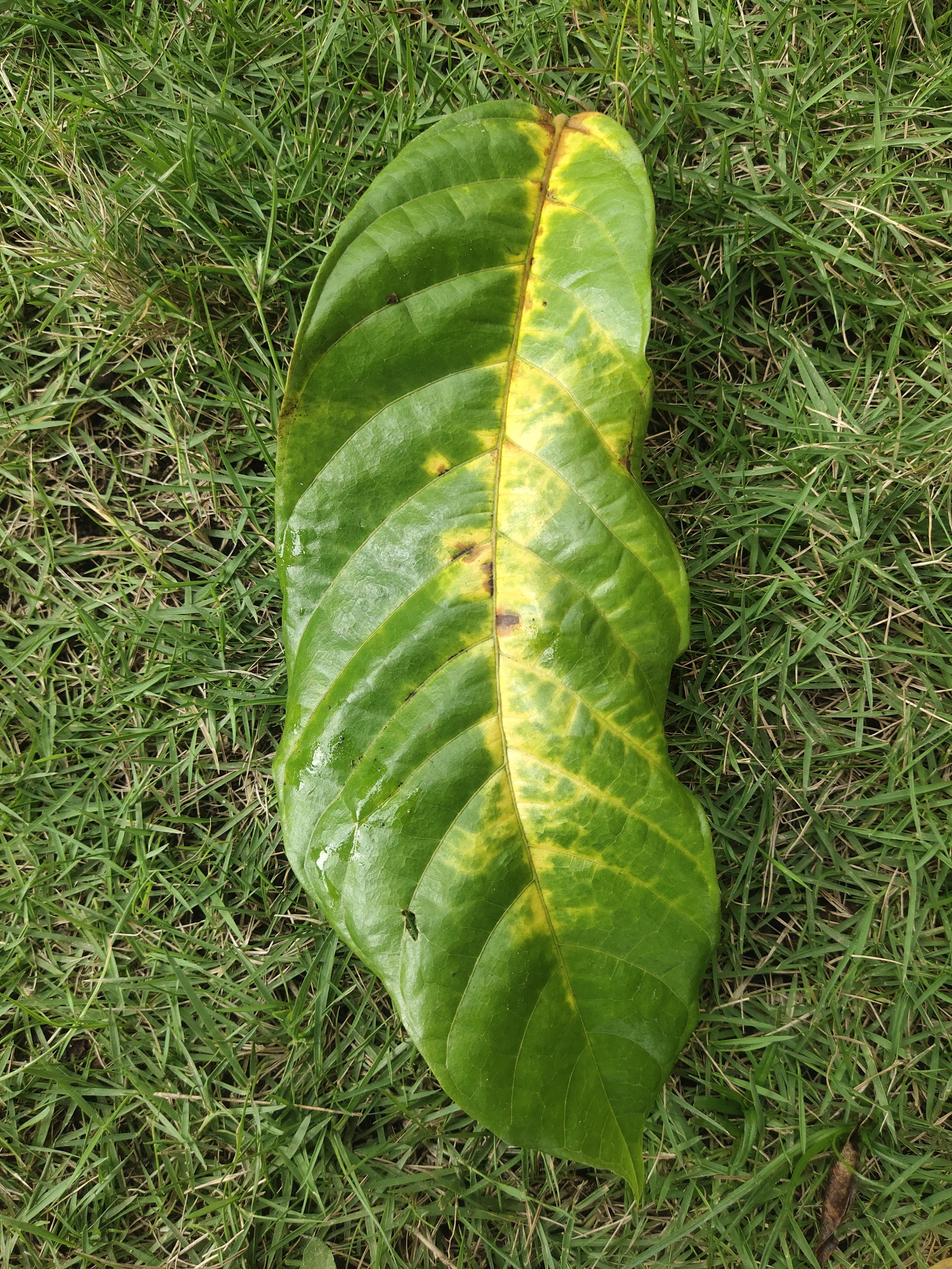deficiencia_potasio: (248, 76, 720, 1199)
